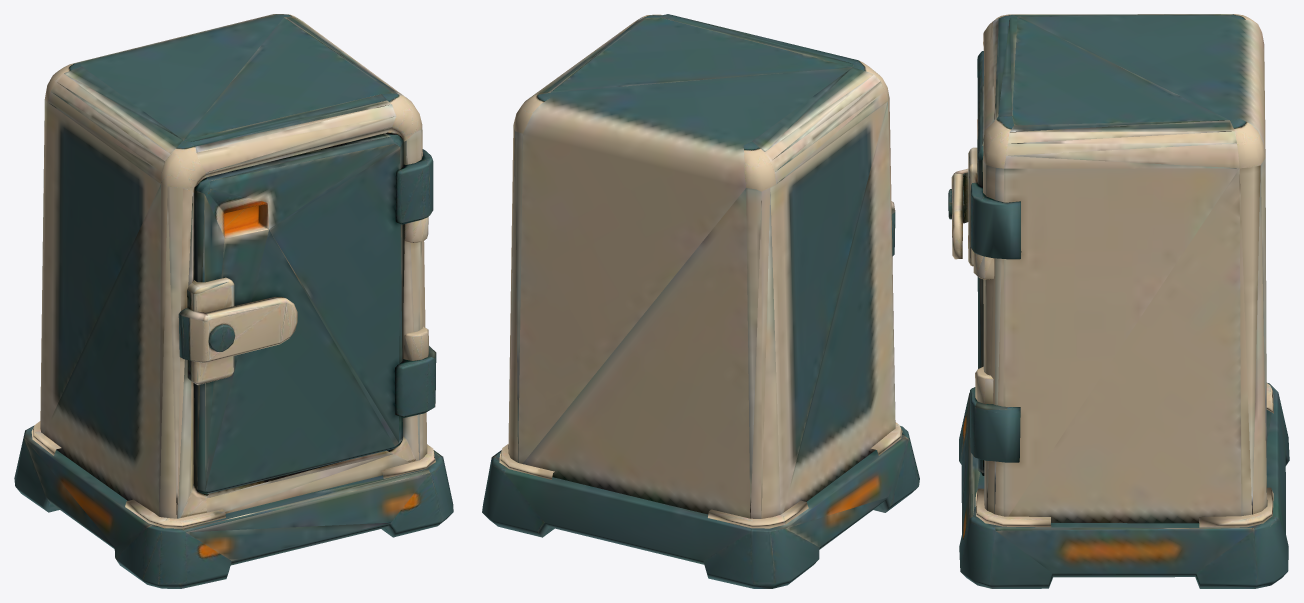
Rendered from recovery_vault-lod0.09021ce7a554.glb.
3 views of the same model, side by side, from view 1: azimuth 30°, elevation 25°; view 2: azimuth 150°, elevation 25°; view 3: azimuth 270°, elevation 25° (orthographic). The views are drawn at different scales.
Visible parts, largest first — view 1: geometry_0; view 2: geometry_0; view 3: geometry_0.
Boxes of the visible parts, <box> form: geometry_0: <box>14,14,453,588</box>; geometry_0: <box>482,14,919,588</box>; geometry_0: <box>948,14,1289,588</box>.
Size of the model in its own units: 0.7649 by 1 by 0.6953.
1 material, 1 textured.
